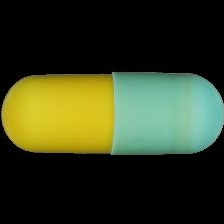0555-0158: (0, 0, 224, 224)
